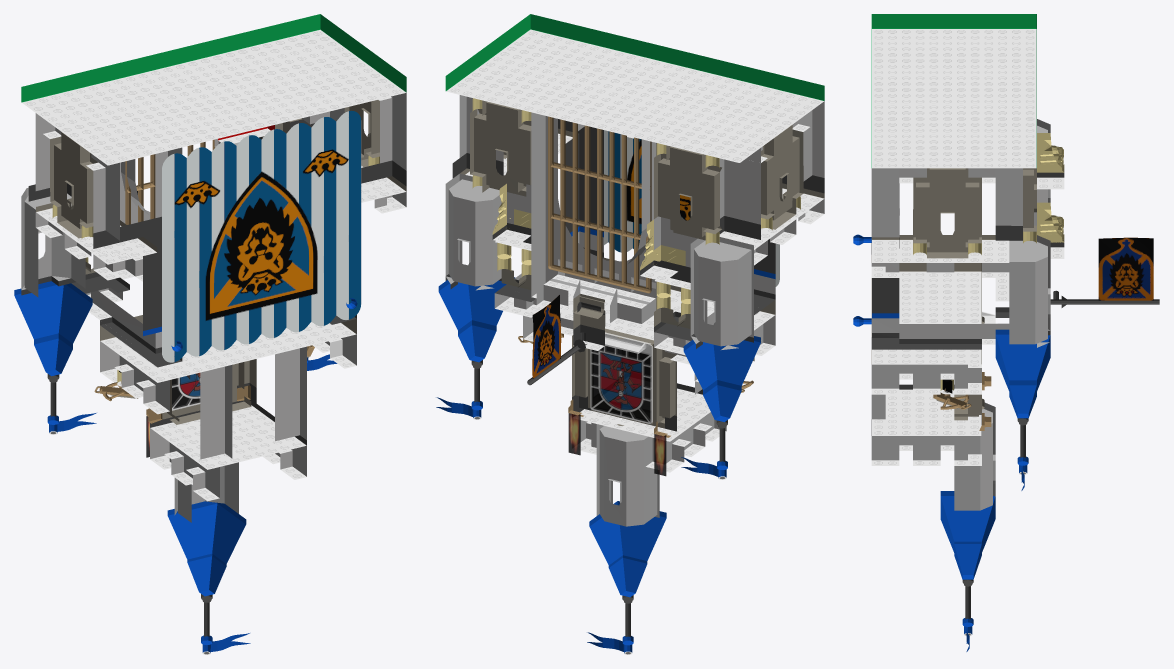
3 views of the same model, side by side, from view 1: azimuth 30°, elevation 25°; view 2: azimuth 150°, elevation 25°; view 3: azimuth 270°, elevation 25° (orthographic). The views are drawn at different scales.
Visible parts, largest first — view 1: 186_shape65, 136_shape58, 111_shape47, 053_shape22, 093_shape42, 182_shape64, 039_OC6098-2_8_x_8_Flat, 117_shape51, 073_shape36, 066_shape31, 034_L_3010202, 124_shape51; view 2: 136_shape58, 111_shape47, 093_shape42, 053_shape22, 073_shape36, 066_shape31, 034_L_3010202, 186_shape65, 039_OC6098-2_8_x_8_Flat, 063_shape30, 182_shape64, 060_shape27 (+3 smaller); view 3: 093_shape42, 136_shape58, 053_shape22, 182_shape64, 039_OC6098-2_8_x_8_Flat, 063_shape30, 124_shape51, 111_shape47, 060_shape27, 121_shape53.
Boxes of the visible parts, <box> form: 186_shape65: <box>162,110,361,362</box>; 136_shape58: <box>21,14,406,165</box>; 111_shape47: <box>14,113,182,416</box>; 053_shape22: <box>100,334,356,636</box>; 093_shape42: <box>262,93,406,324</box>; 182_shape64: <box>100,315,356,382</box>; 039_OC6098-2_8_x_8_Flat: <box>150,399,306,469</box>; 117_shape51: <box>36,198,157,264</box>; 073_shape36: <box>120,159,150,281</box>; 066_shape31: <box>125,139,215,224</box>; 034_L_3010202: <box>172,372,200,410</box>; 124_shape51: <box>361,166,406,202</box>; 136_shape58: <box>445,14,824,162</box>; 111_shape47: <box>640,101,824,462</box>; 093_shape42: <box>438,95,603,402</box>; 053_shape22: <box>523,315,775,637</box>; 073_shape36: <box>531,112,657,329</box>; 066_shape31: <box>548,116,651,293</box>; 034_L_3010202: <box>590,332,652,423</box>; 186_shape65: <box>604,130,779,286</box>; 039_OC6098-2_8_x_8_Flat: <box>572,383,710,441</box>; 063_shape30: <box>532,295,561,378</box>; 182_shape64: <box>560,257,775,340</box>; 060_shape27: <box>527,302,605,385</box>; 093_shape42: <box>871,168,1064,457</box>; 136_shape58: <box>871,14,1036,168</box>; 053_shape22: <box>871,316,995,619</box>; 182_shape64: <box>871,263,981,364</box>; 039_OC6098-2_8_x_8_Flat: <box>871,384,981,435</box>; 063_shape30: <box>1098,237,1153,300</box>; 124_shape51: <box>871,235,1009,262</box>; 111_shape47: <box>1037,119,1064,202</box>; 060_shape27: <box>1050,290,1159,307</box>; 121_shape53: <box>1037,172,1064,189</box>.
Bounding box in the file's own units: 20.39 × 35.36 × 17.81.
Materials: 22 (8 with a texture image).
